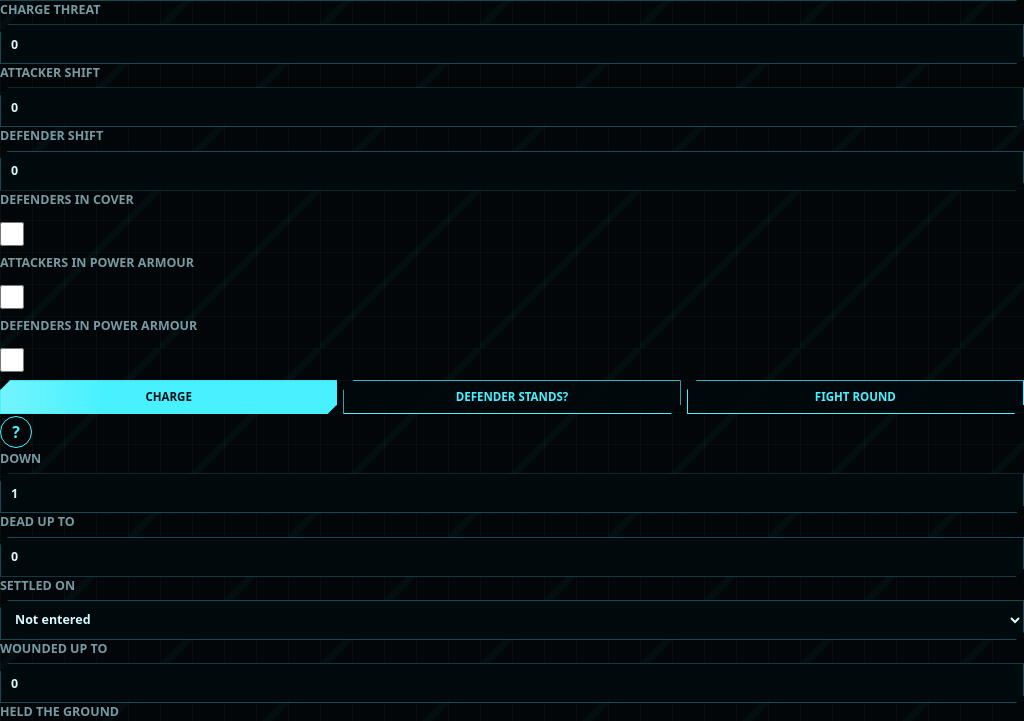
Test: StarGrunt close assault › sends false when the table did not say so, which is the ordinary case
(page scrolled)
Click the button "Fight Round".
click(855, 397)  # box [687,380,1023,414]
(page scrolled)
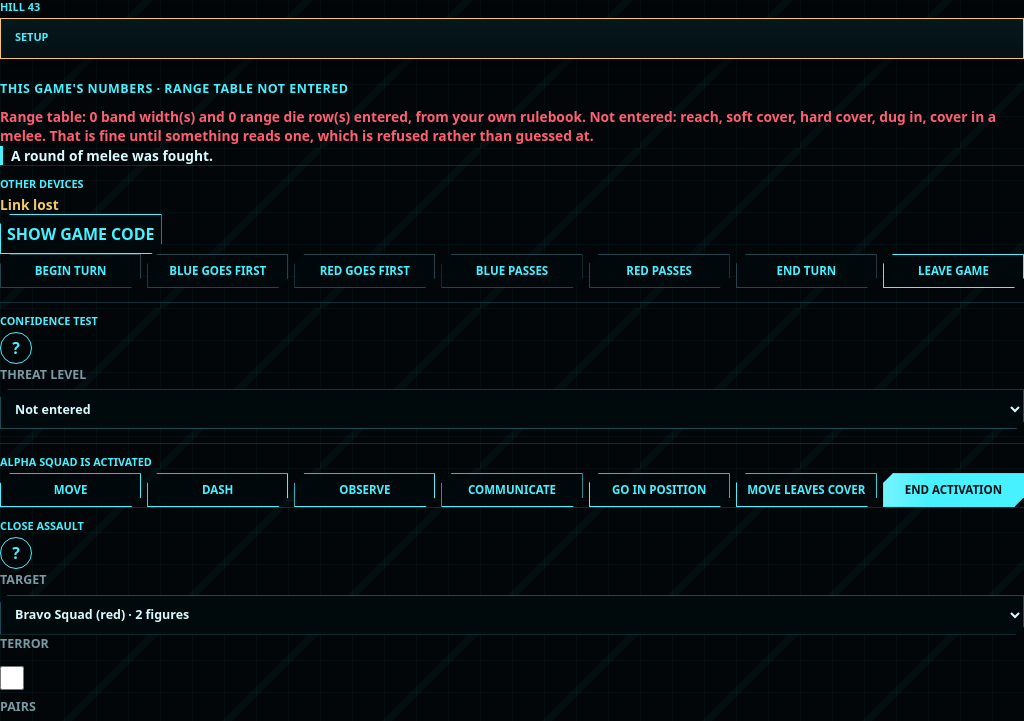
expect the text "A round of melee was fought." is shown: met, box [0,146,1023,165]
